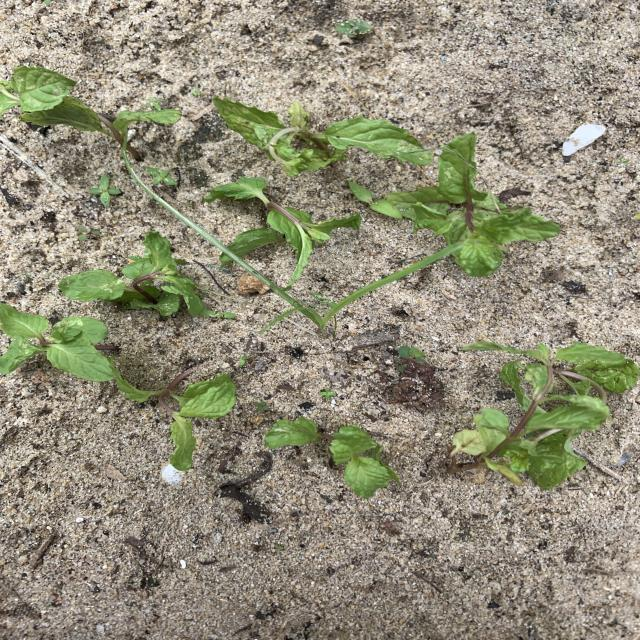crop: (449, 341, 638, 489), (386, 134, 559, 275), (214, 99, 429, 173), (205, 177, 359, 280), (0, 66, 179, 143), (59, 231, 206, 315), (114, 372, 234, 470), (265, 417, 399, 497), (0, 304, 116, 380)
weed: (132, 172, 458, 331), (348, 181, 402, 219), (89, 175, 119, 204), (336, 20, 371, 37), (147, 167, 177, 186), (397, 346, 426, 363), (77, 225, 100, 239), (204, 310, 237, 319), (147, 99, 160, 110), (319, 389, 334, 398), (254, 401, 267, 411), (239, 355, 247, 364), (273, 544, 283, 550)
